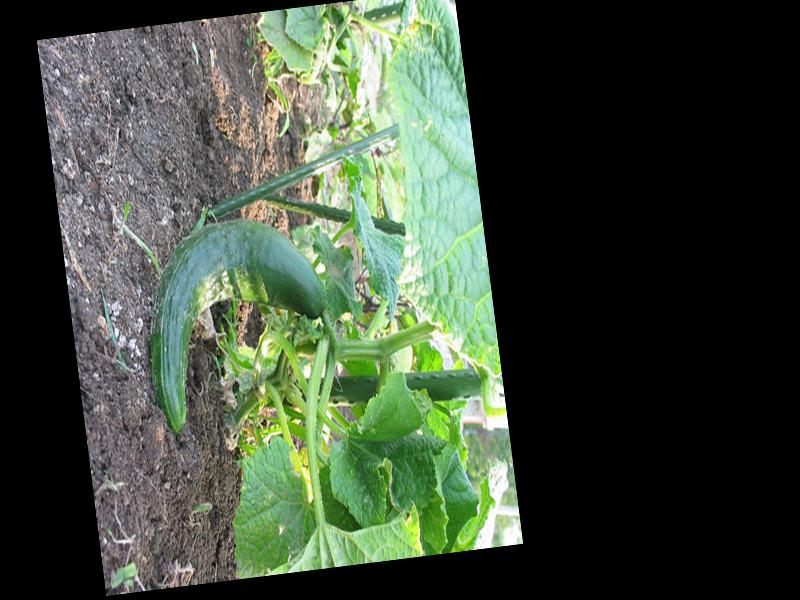Cucumber: (133, 208, 341, 436)
